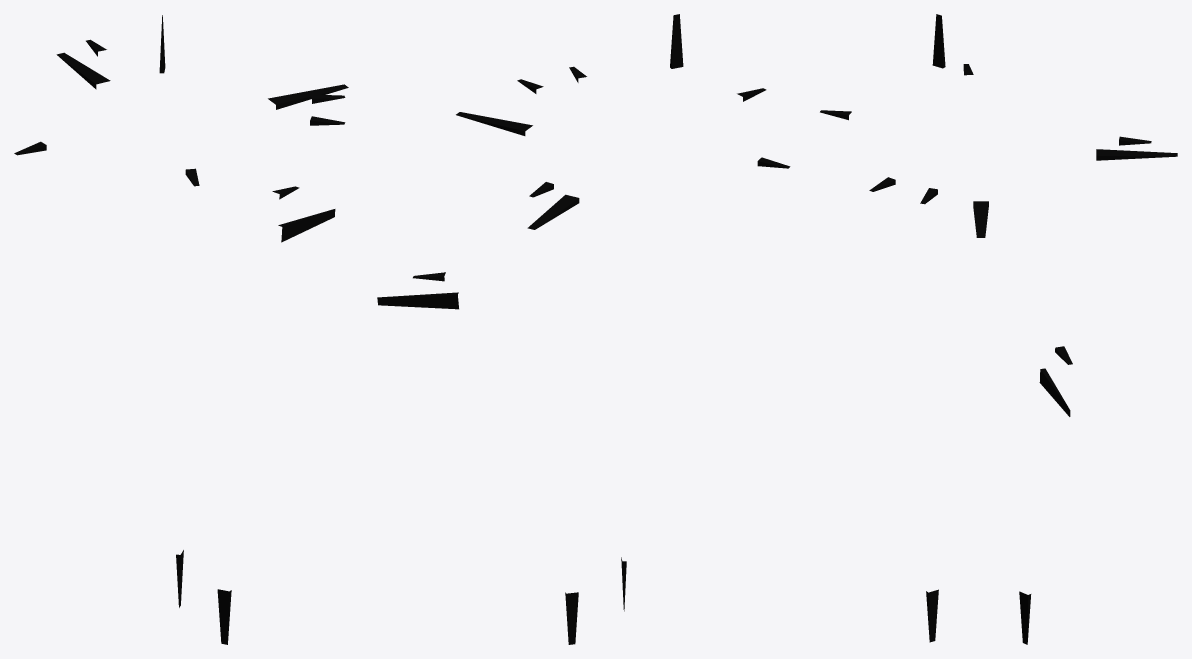
File: tr1_outpost_02.glb
3 renders of one model, left to right at view 1: azimuth 30°, elevation 25°; view 2: azimuth 150°, elevation 25°; view 3: azimuth 270°, elevation 25°, orthographic. The views are drawn at different scales.
Visible parts, largest first — view 1: tr1_outpost_02_LOD0; view 2: tr1_outpost_02_LOD0; view 3: tr1_outpost_02_LOD0.
Boxes of the visible parts, x1=… form: tr1_outpost_02_LOD0: x1=14, y1=15, x2=348, y2=644; tr1_outpost_02_LOD0: x1=377, y1=14, x2=790, y2=644; tr1_outpost_02_LOD0: x1=820, y1=14, x2=1177, y2=644.
Size of what is drawn, in the model's own units: 16.26 by 26.5 by 14.33.
1 material, 1 textured.
